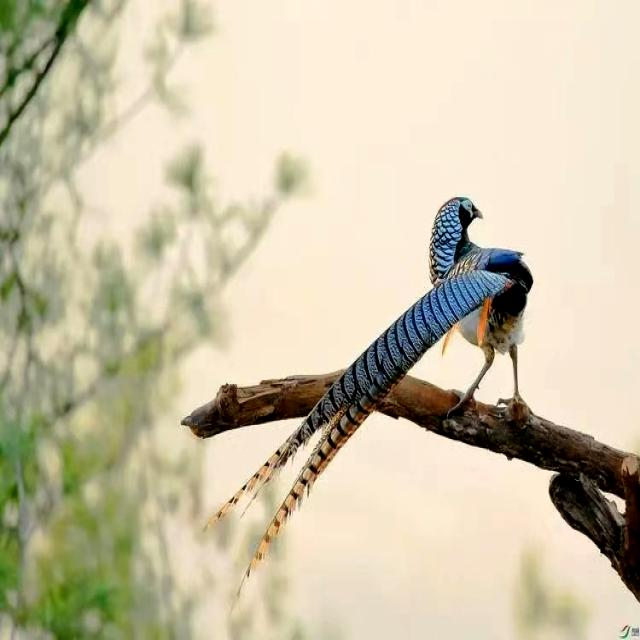Chrysolophus amherstiae: (212, 248, 511, 576)
